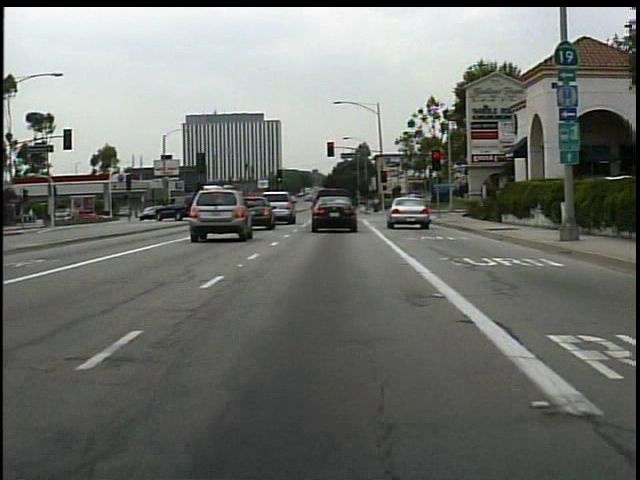person: (371, 195, 383, 215)
